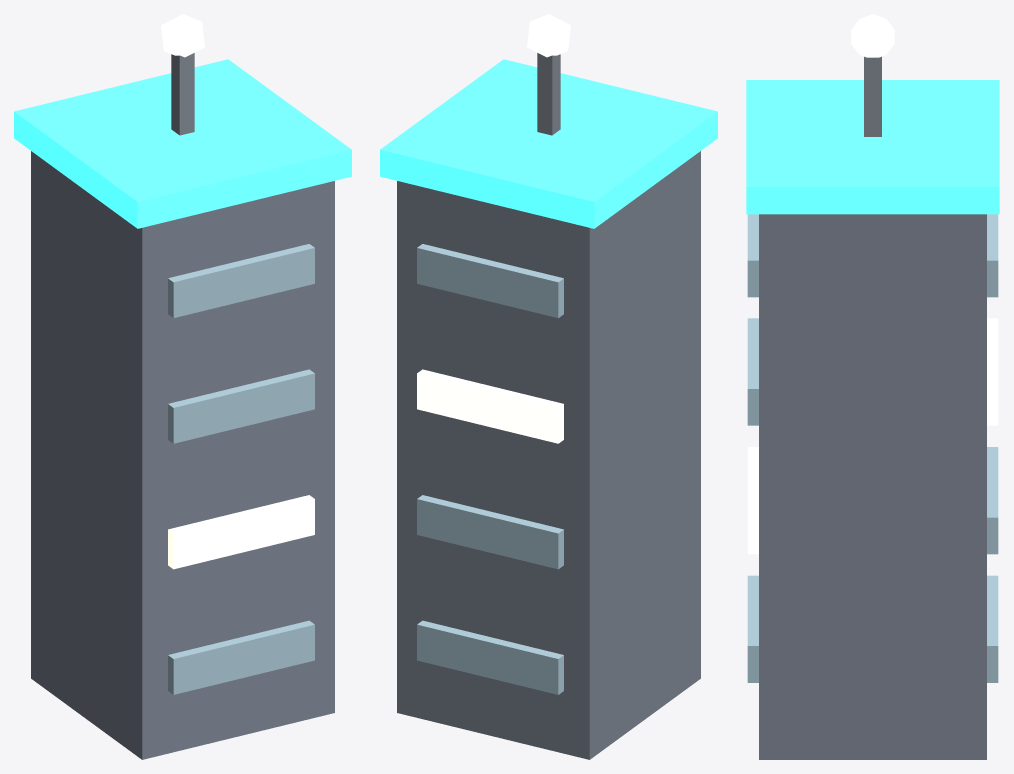
Rendered from tower.glb.
3 views of the same model, side by side, from view 1: azimuth 30°, elevation 25°; view 2: azimuth 150°, elevation 25°; view 3: azimuth 270°, elevation 25° (orthographic). The views are drawn at different scales.
Visible parts, largest first — view 1: MetroTower; view 2: MetroTower; view 3: MetroTower.
Part boxes in pixels (<box>): MetroTower: <box>14,14,351,759</box>; MetroTower: <box>380,14,717,759</box>; MetroTower: <box>746,14,999,759</box>.
Size of the model in its own units: 1 by 3.04 by 1.
